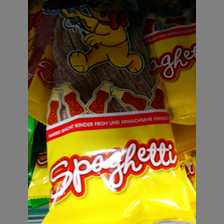candy: (47, 7, 195, 223)
